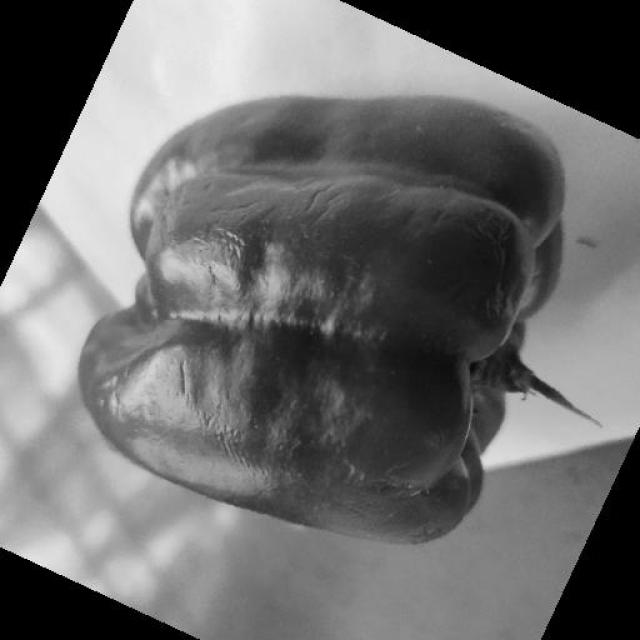Stale_Capsicum: (89, 140, 598, 534)
